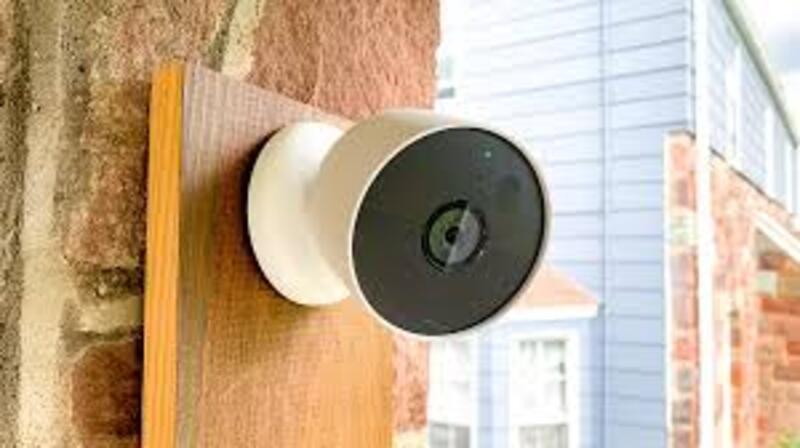nest: (312, 111, 555, 344)
